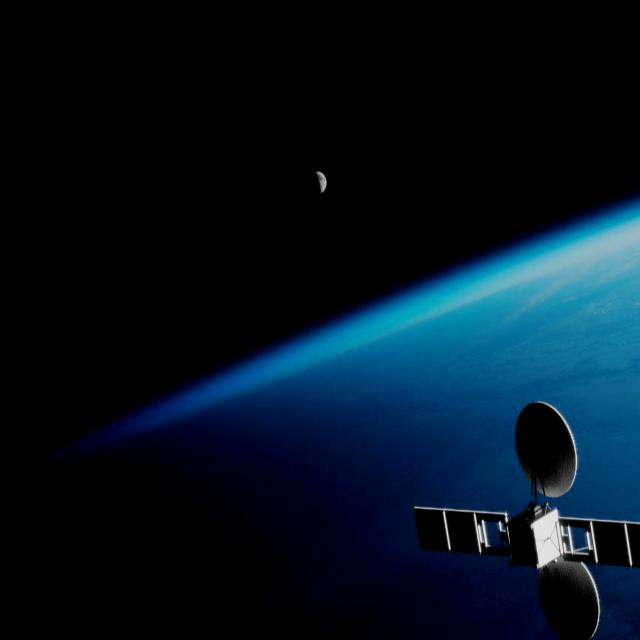medium_debris: (390, 396, 640, 640)
